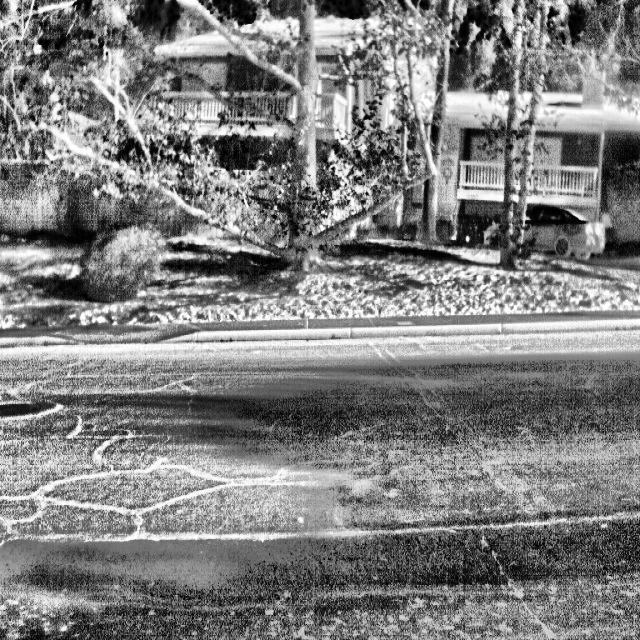car: (506, 195, 598, 269)
